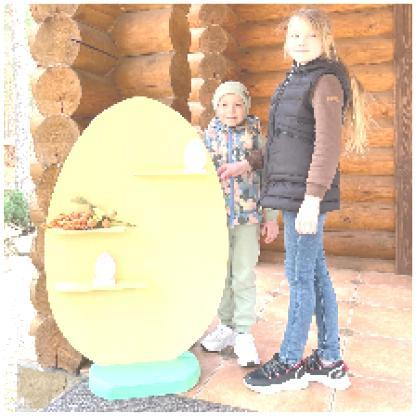child: (196, 83, 281, 367)
